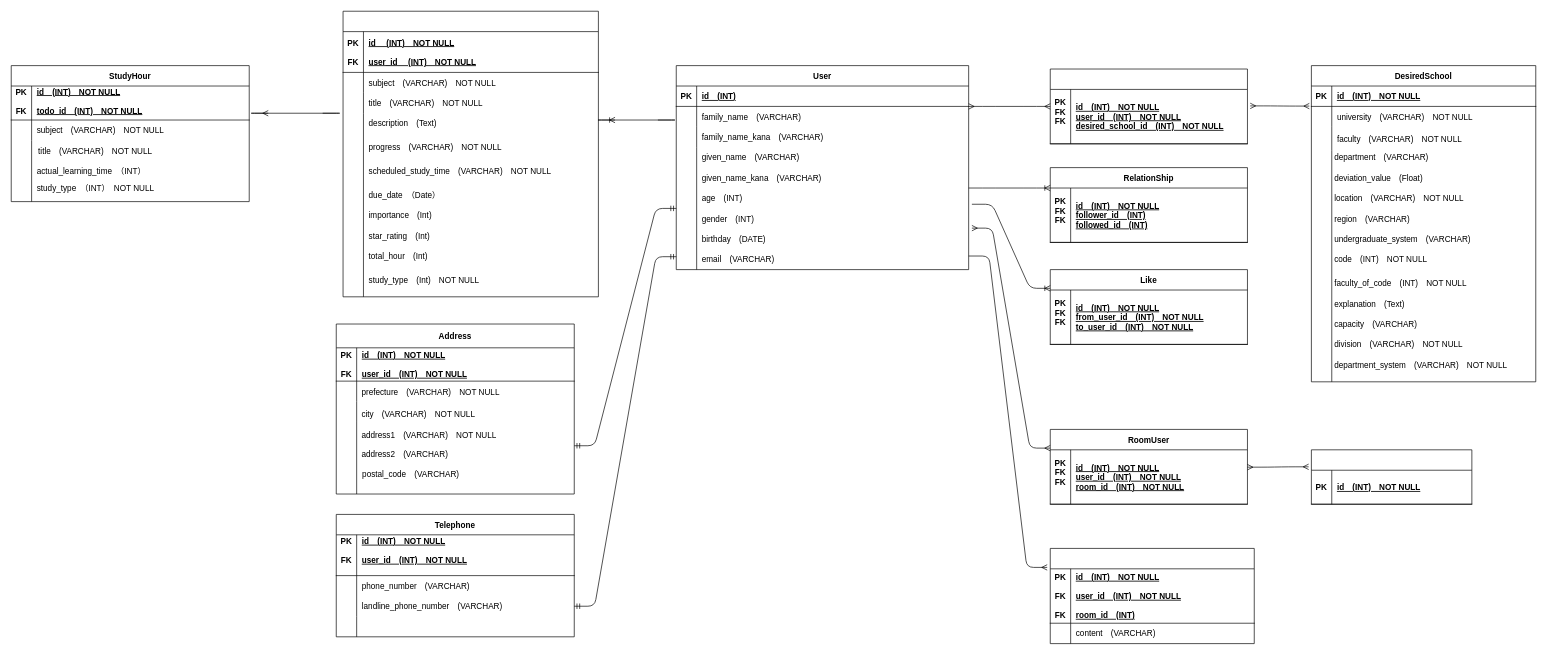
Some shapes in this 1547 by 662 pixel diagram are drawn without their labels. Here are the shapes that lost their labels. From the top down, the box of each, then its label:
(1050, 68, 1247, 144): Aspiration
(342, 11, 598, 297): Todo
(1311, 449, 1472, 504): Room
(1050, 548, 1254, 644): Message
